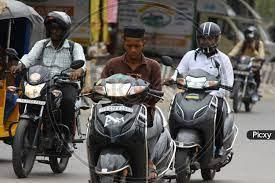helmet: (43, 10, 73, 41), (195, 22, 222, 55), (244, 26, 258, 42)
nohelmet: (122, 25, 147, 59)
